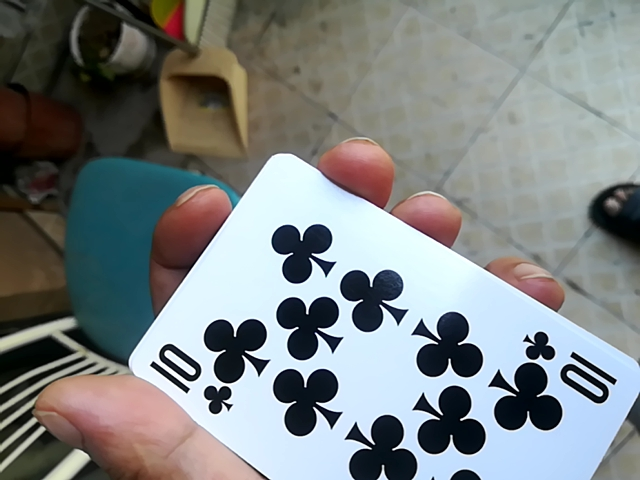mh 10: (95, 154, 628, 475)
